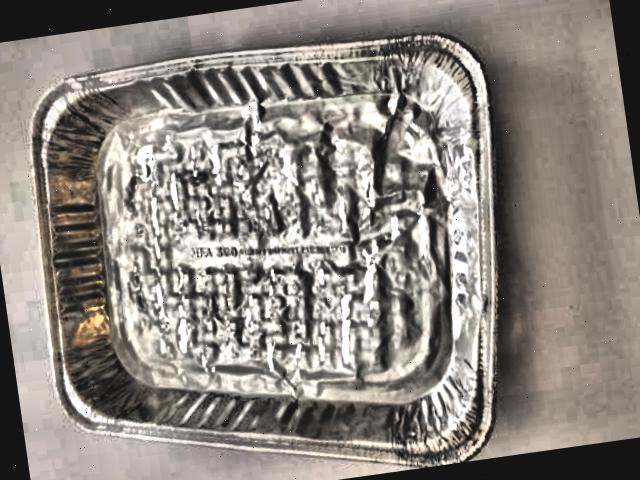Almennt: (0, 7, 553, 480)
